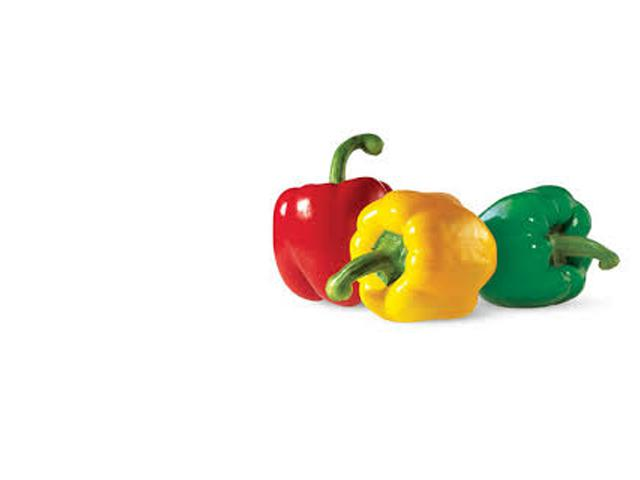bell_pepper: (461, 173, 612, 320)
